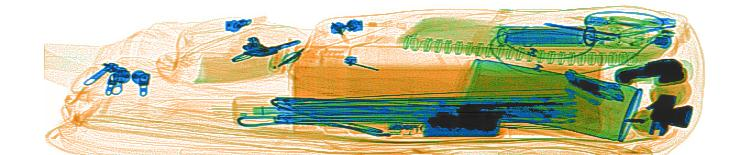battery: (387, 103, 509, 140), (501, 24, 586, 45)
